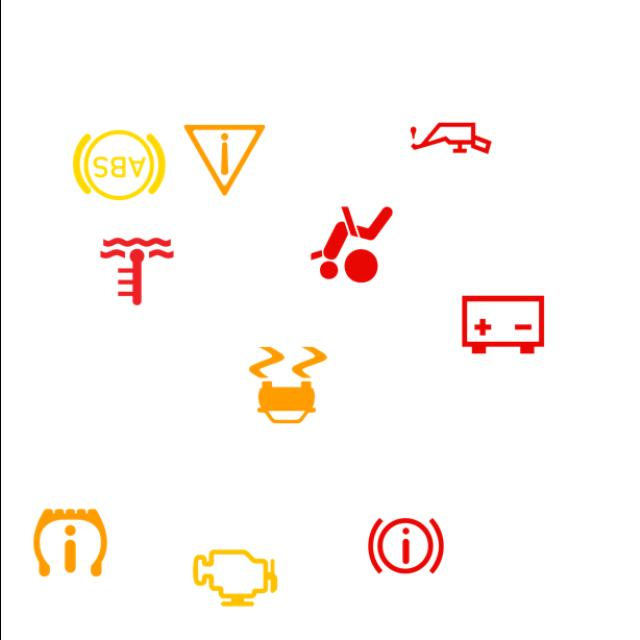Anti Lock Braking System: (68, 114, 169, 216)
Braking System Issue: (354, 495, 456, 596)
Charging System Issue: (452, 274, 552, 375)
Check Engine: (183, 528, 284, 628)
Electronic Stability Problem -ESP-: (236, 334, 338, 436)
Engine Overheating Warning Light: (86, 221, 186, 322)
Low Engine Oil Warning Light: (400, 88, 500, 188)
Low Tire Pressure Warning Light: (19, 492, 120, 593)
Master warning light: (173, 110, 274, 210)
SRS-Airbag: (300, 194, 401, 295)
